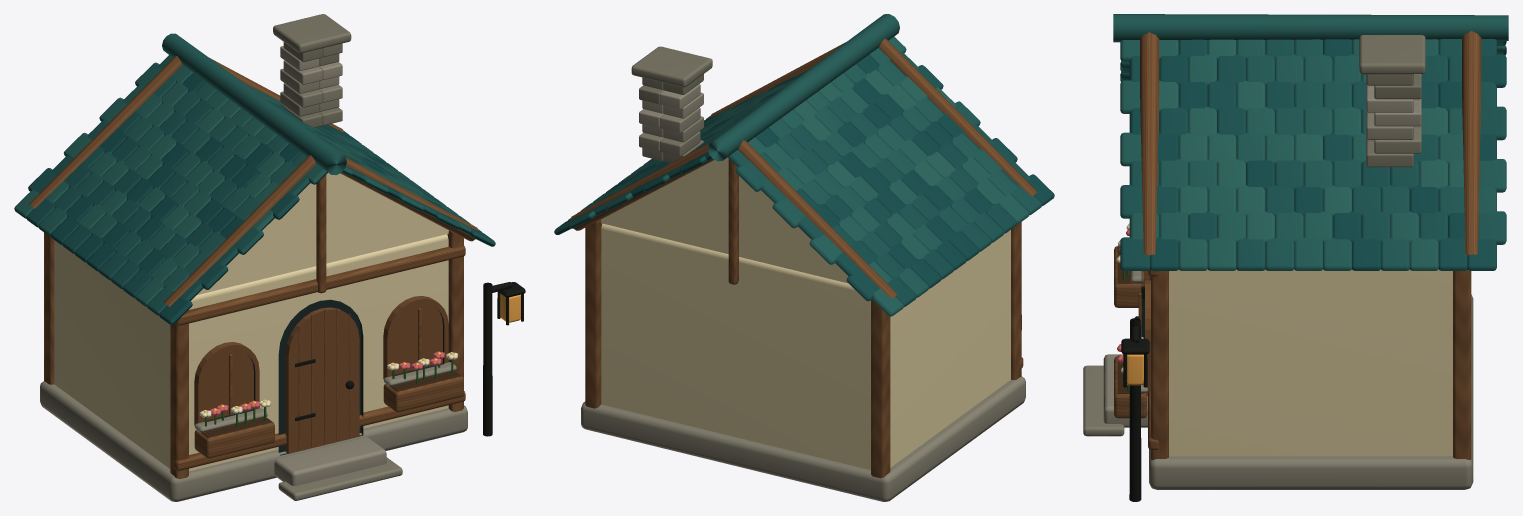
The model's file is teal_cottage.glb.
3 renders of one model, left to right at view 1: azimuth 30°, elevation 25°; view 2: azimuth 150°, elevation 25°; view 3: azimuth 270°, elevation 25°, orthographic. The views are drawn at different scales.
Parts seen in each view (by area): view 1: Limewashed walls, Gable front, Limestone plinth, Oak arched door, Roof ridge cap, Facade cross beam.001, Window oak frame, Window oak frame.001, Front doorstep, Corner timber, Gable timber.002, Gable timber (+13 smaller); view 2: Limewashed walls, Limestone plinth, Gable back, Roof ridge cap, Corner timber.001, Corner timber.003, Gable timber, Gable timber.002, Chimney crown, Corner timber, Gable timber.003, Gable central post.001 (+6 smaller); view 3: Limewashed walls, Limestone plinth, Roof ridge cap, Gable timber.003, Gable timber.001, Corner timber.003, Corner timber.002, Chimney crown, Front second step, Lamp post, Front doorstep, Individual scalloped roof tile.224 (+102 smaller).
Boxes of the visible parts, x1,y1,x2,y2 form: Limewashed walls: (54,234,448,471); Gable front: (197,172,448,294); Limestone plinth: (40,381,467,501); Oak arched door: (285,307,359,453); Roof ridge cap: (162,33,346,175); Facade cross beam.001: (175,246,465,325); Window oak frame: (194,342,259,425); Window oak frame.001: (383,296,448,378); Front doorstep: (274,437,386,485); Corner timber: (170,310,188,479); Gable timber.002: (29,56,182,208); Gable timber: (163,155,316,306); Limewashed walls: (601,223,1010,469); Limestone plinth: (581,376,1025,501); Gable back: (601,157,848,283); Roof ridge cap: (707,14,899,161); Corner timber.001: (871,299,890,478); Corner timber.003: (585,220,602,408); Gable timber: (878,39,1037,196); Gable timber.002: (738,140,897,298); Chimney crown: (631,46,712,87); Corner timber: (1011,222,1021,379); Gable timber.003: (570,141,714,230); Gable central post.001: (728,158,738,284); Limewashed walls: (1169,269,1452,456); Limestone plinth: (1149,294,1473,489); Roof ridge cap: (1113,14,1508,42); Gable timber.003: (1462,31,1481,255); Gable timber.001: (1140,32,1159,255); Corner timber.003: (1453,269,1471,459); Corner timber.002: (1151,271,1168,459); Chimney crown: (1359,35,1425,74); Front second step: (1083,365,1124,436); Lamp post: (1129,318,1141,501); Front doorstep: (1103,354,1147,427); Individual scalloped roof tile.224: (1207,237,1236,270).
Bounding box in the file's own units: 6.23 × 5.73 × 5.38.
Materials: 24 (2 with a texture image).
